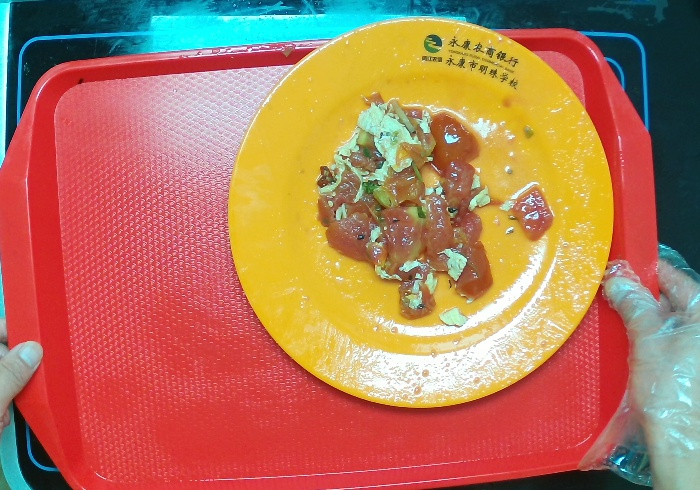YKMZ-Ju_Se_Mian_Pan: (226, 16, 616, 409)
